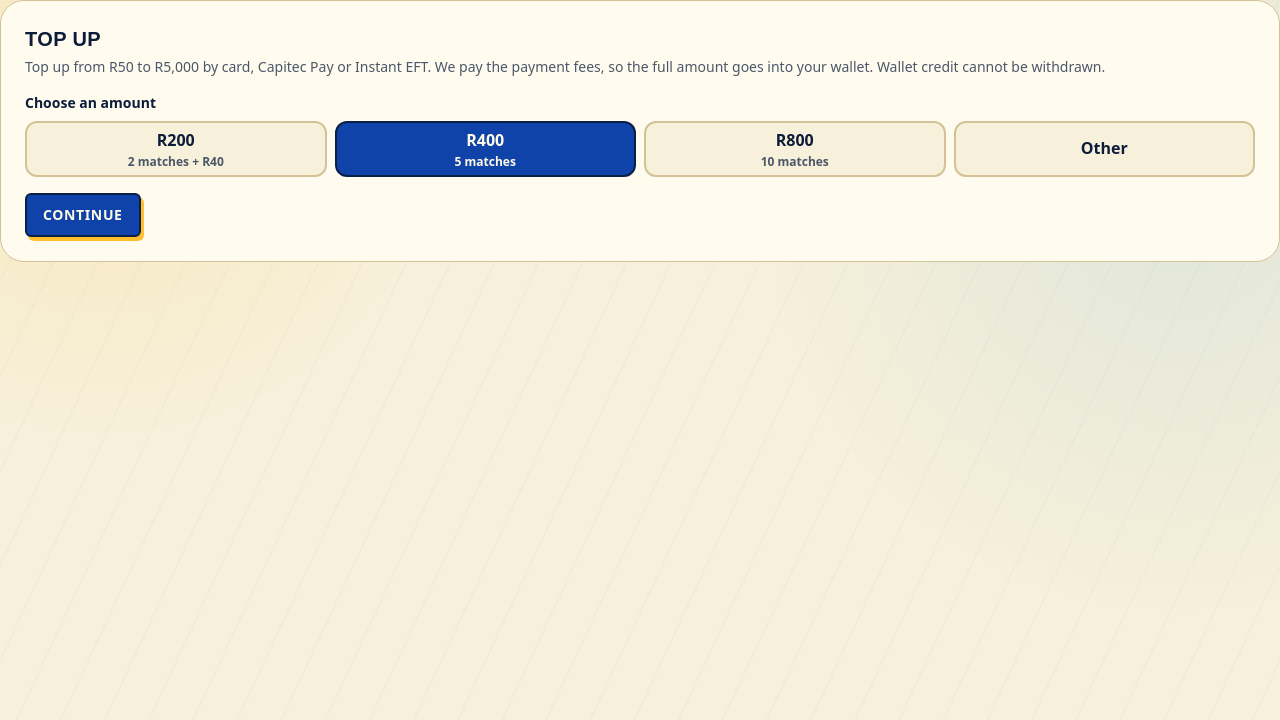
Scenario: TopUpForm › rejects a custom amount of 50.50
Click the button "Other": (1104, 149) [954,121,1255,177]
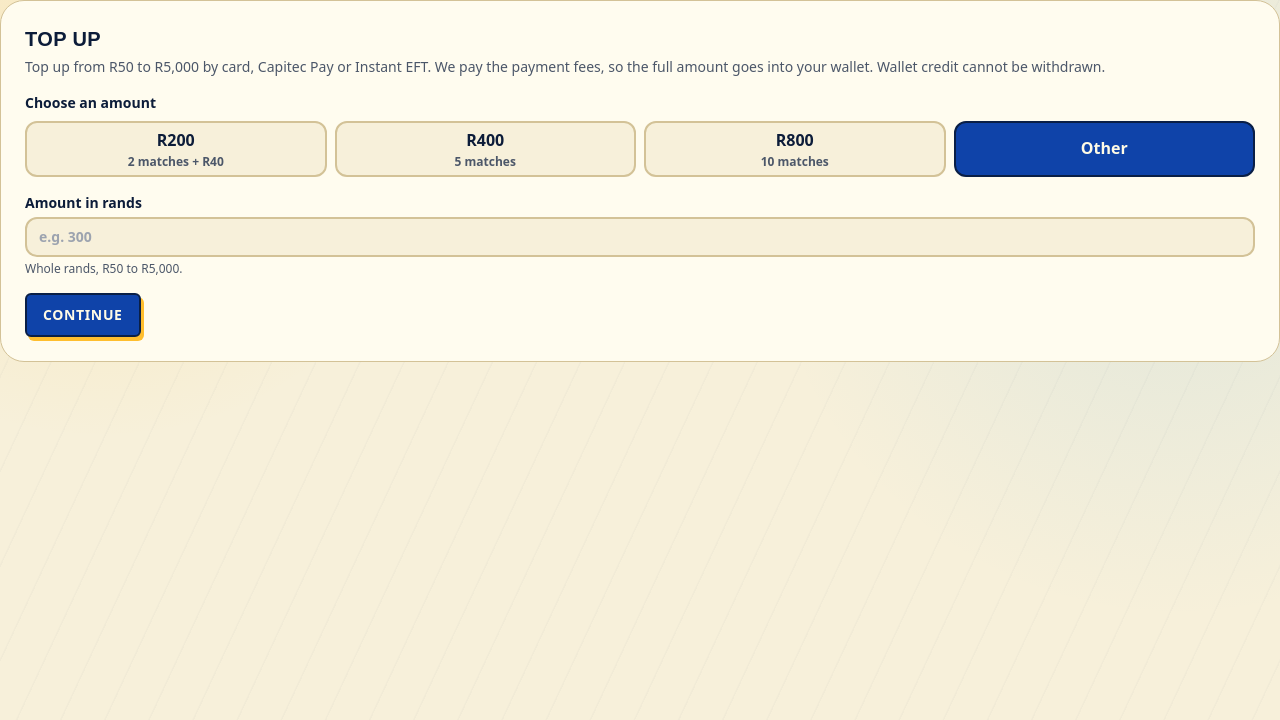
In the field labelled "Amount in rands Whole rands, R50 to R5,000.": (640, 237) [25,217,1255,257], type "50.50"
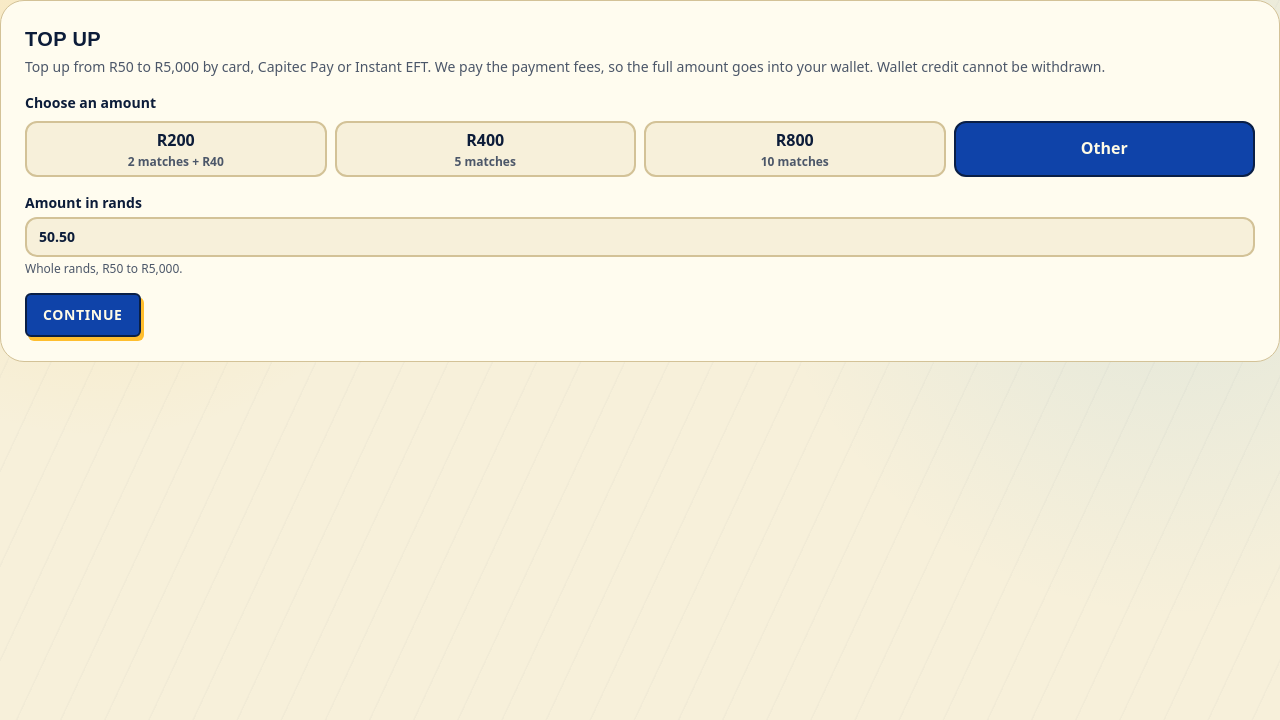
Click the button "Continue": (83, 315) [25,293,141,337]
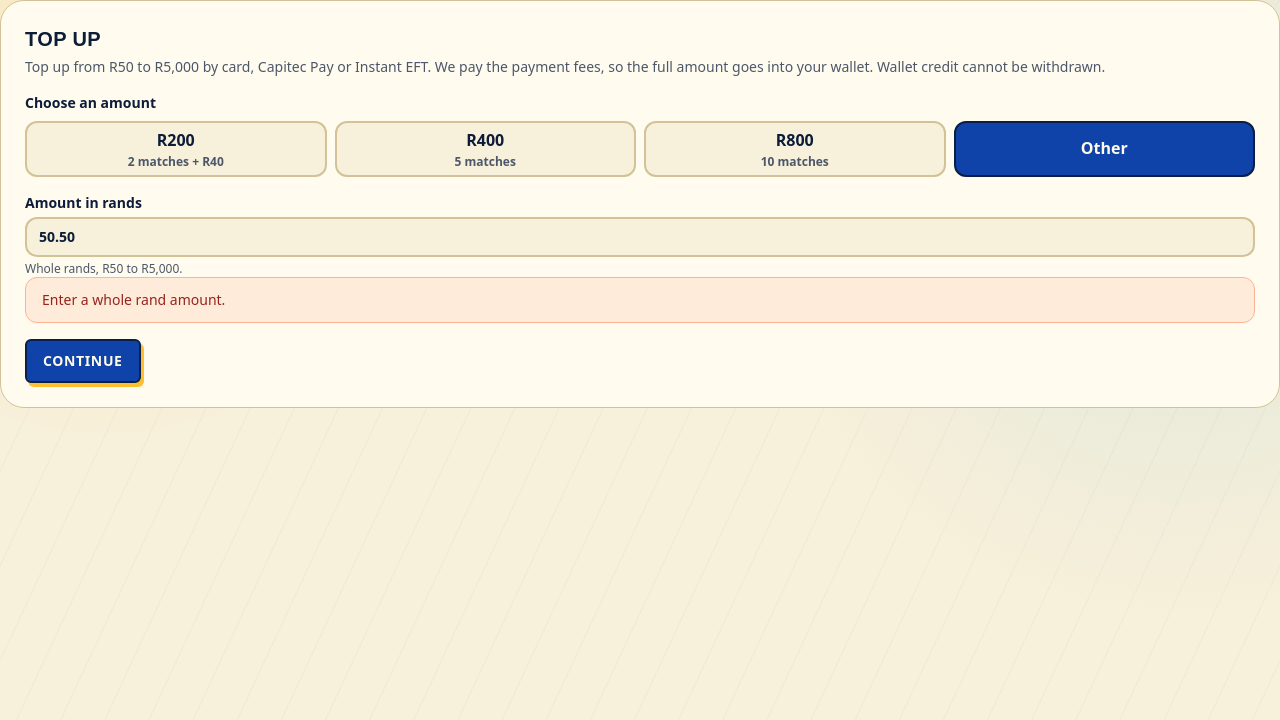
Expected: the message reads "Enter a whole rand amount.", [42,290,225,309]
